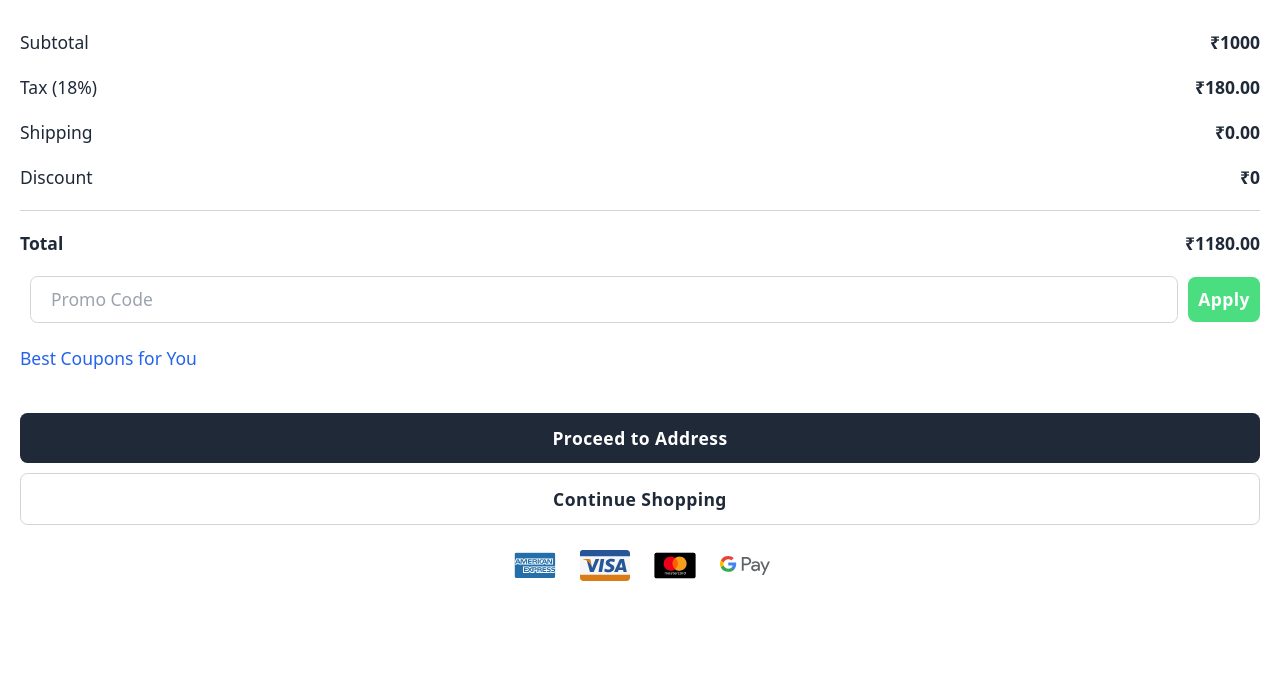
Test: CartSummary › toggles coupon drawer
This screenshot has width=1280, height=681.
Click the button "Best Coupons for You": click(108, 358) top-left (20, 346), bottom-right (197, 371)
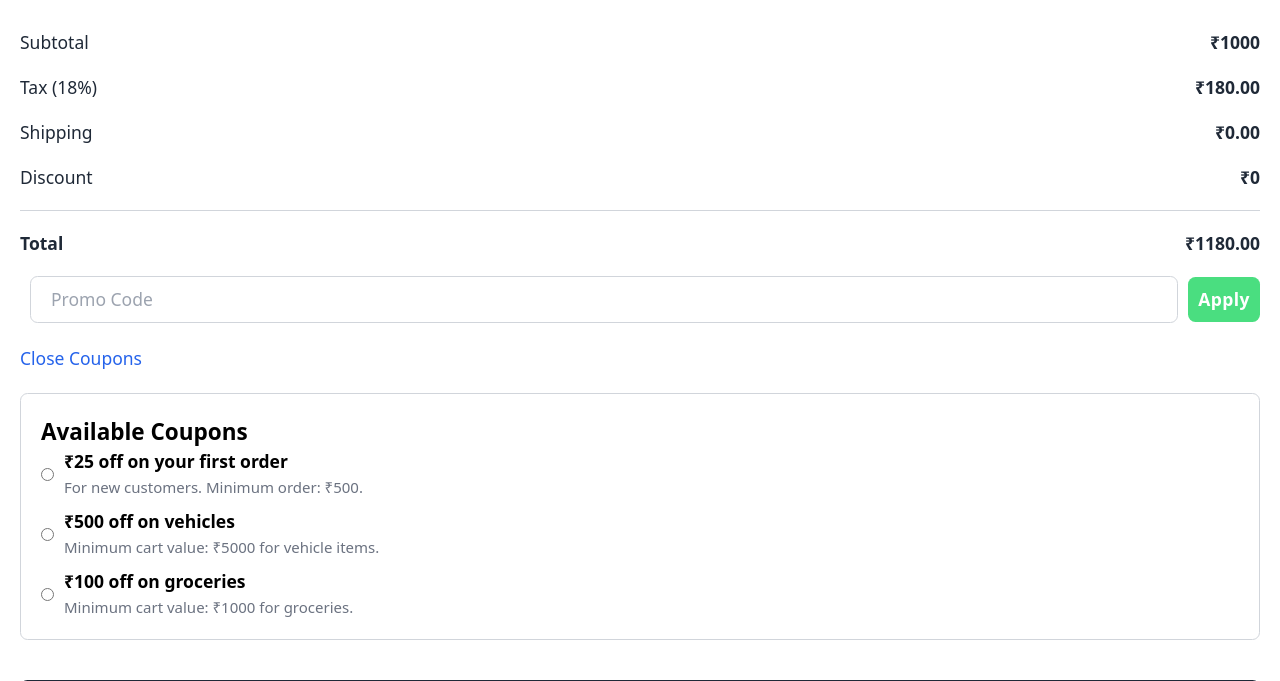
Now the button "Close Coupons" is shown
Click the button "Close Coupons": click(81, 358) top-left (20, 346), bottom-right (142, 371)
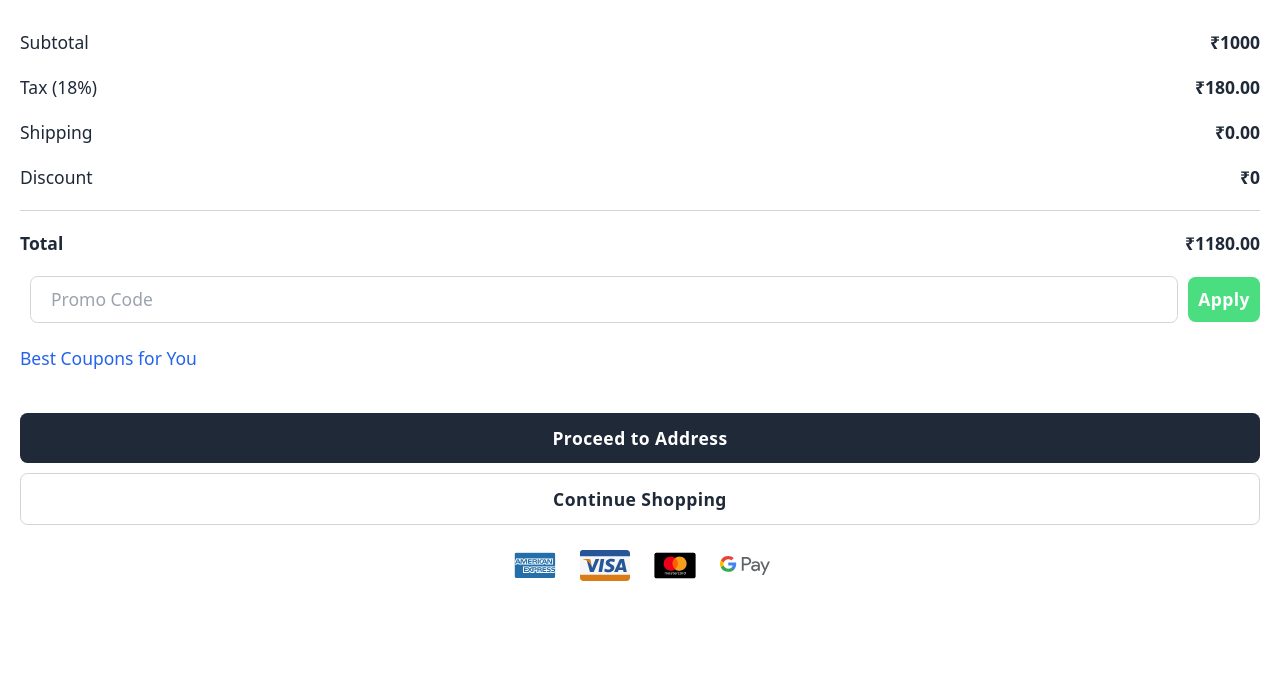
Now the button "Best Coupons for You" is shown, box top-left (20, 346), bottom-right (197, 371)
